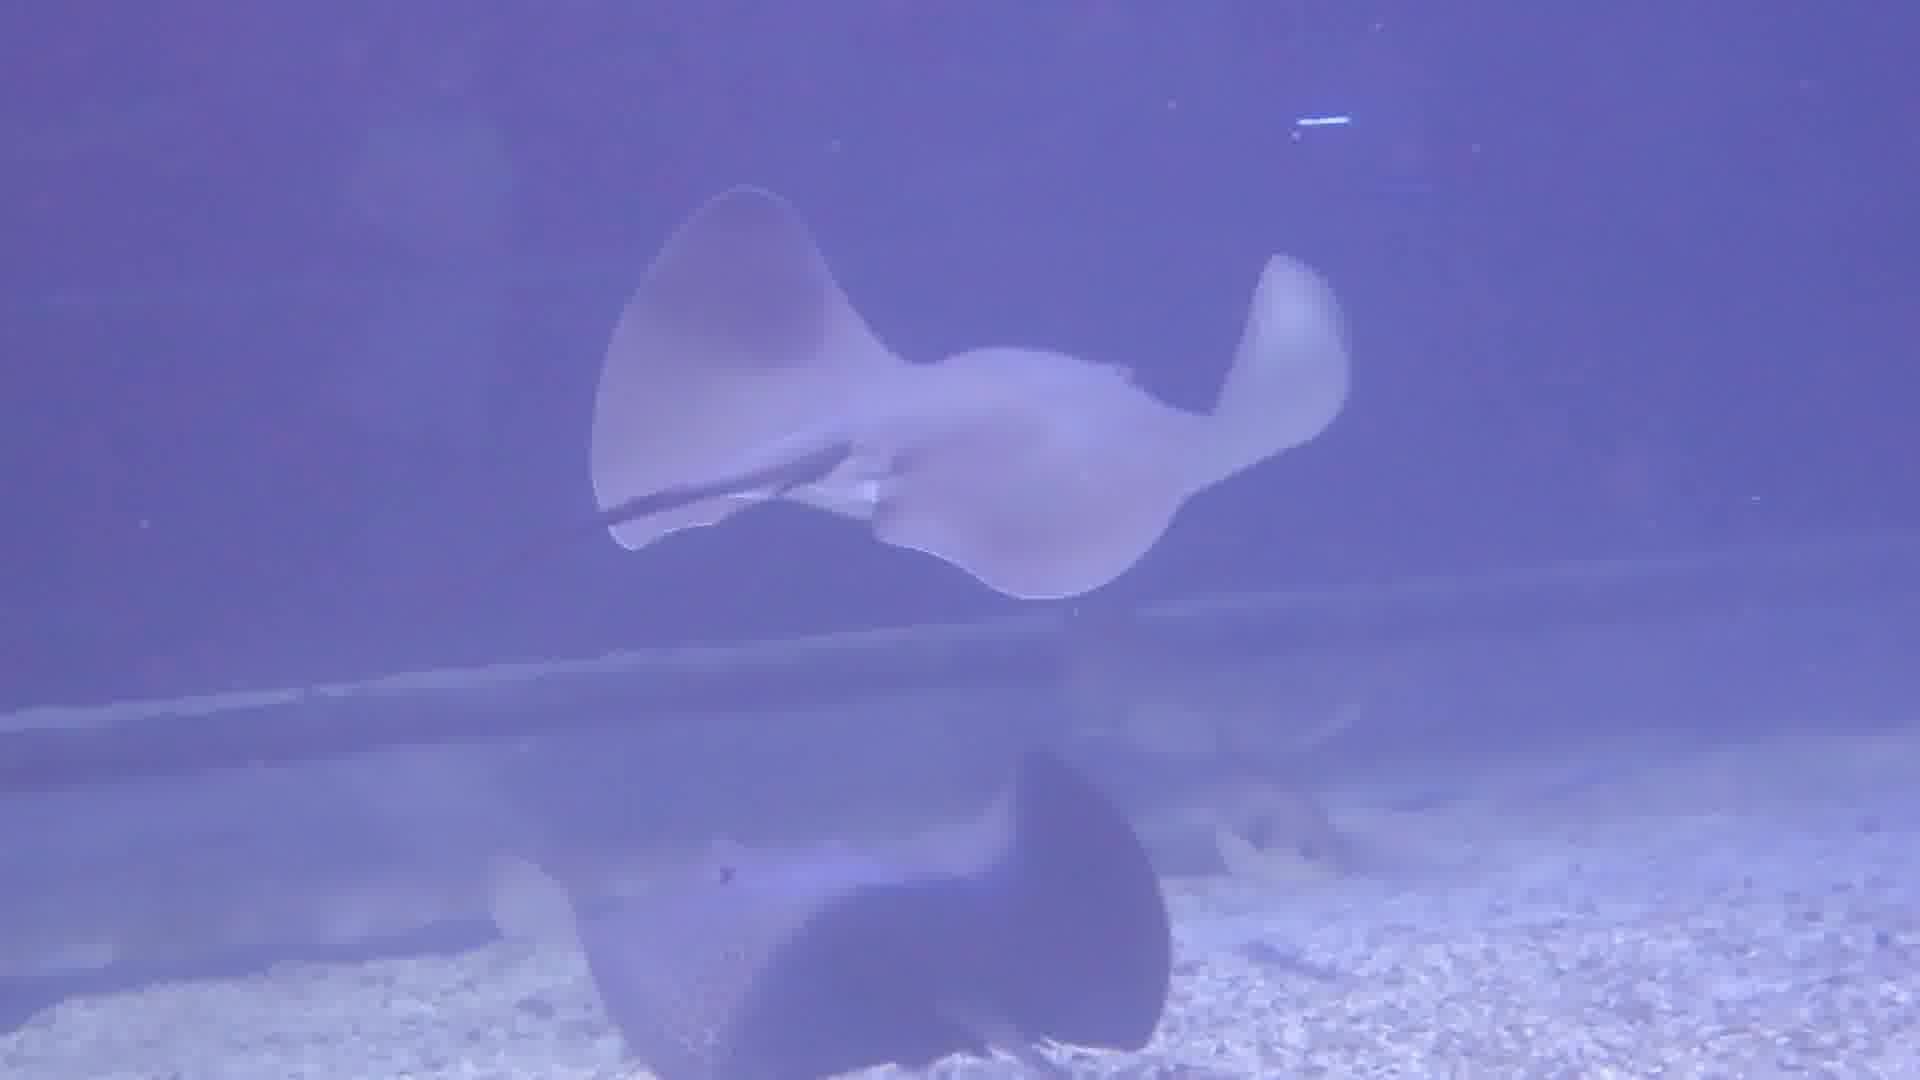Dasyatis akajei: (448, 61, 1452, 694)
